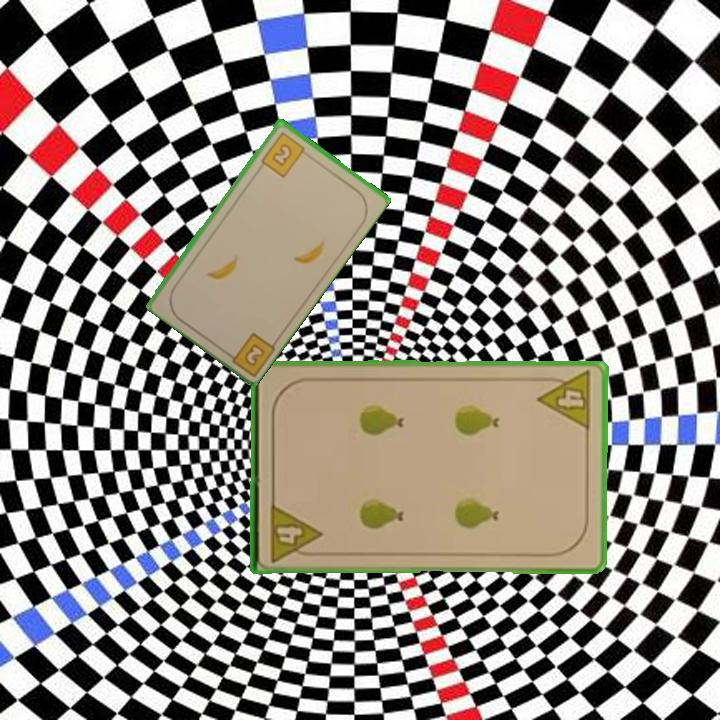2b: (257, 128, 312, 180), (220, 328, 278, 377)
4p: (535, 368, 595, 433), (266, 499, 324, 564)
